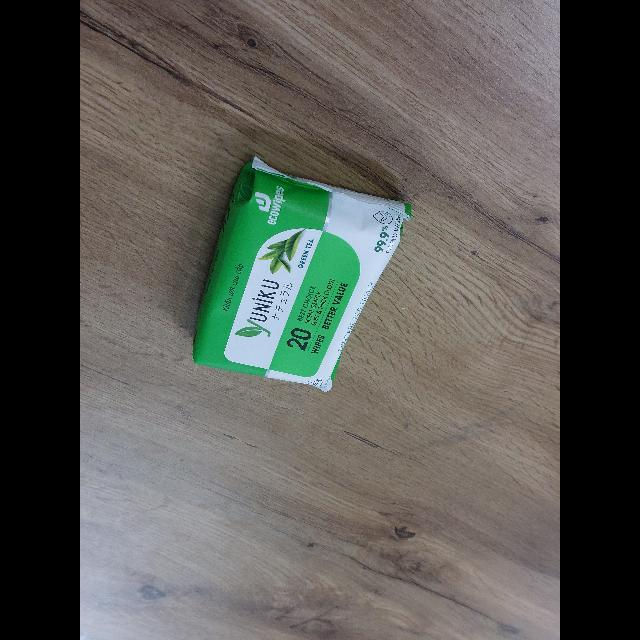khan_giay: (193, 154, 414, 390)
